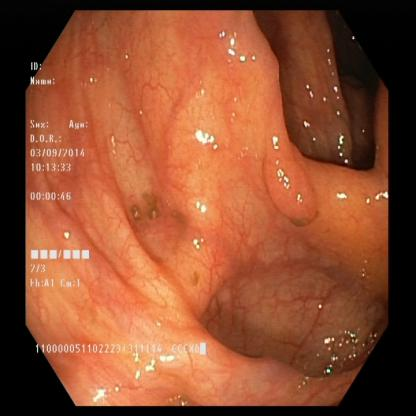Labels: (28, 55, 92, 292), (34, 335, 209, 360)
Polyps: (259, 143, 333, 239)
